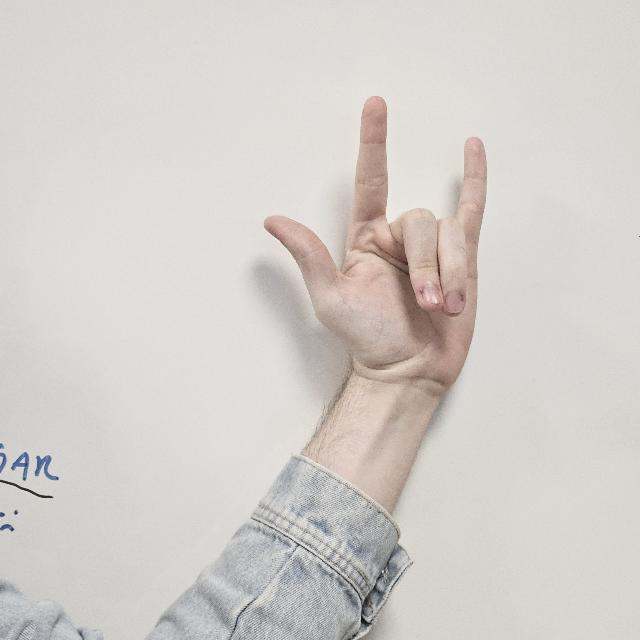Cima: (262, 81, 490, 391)
